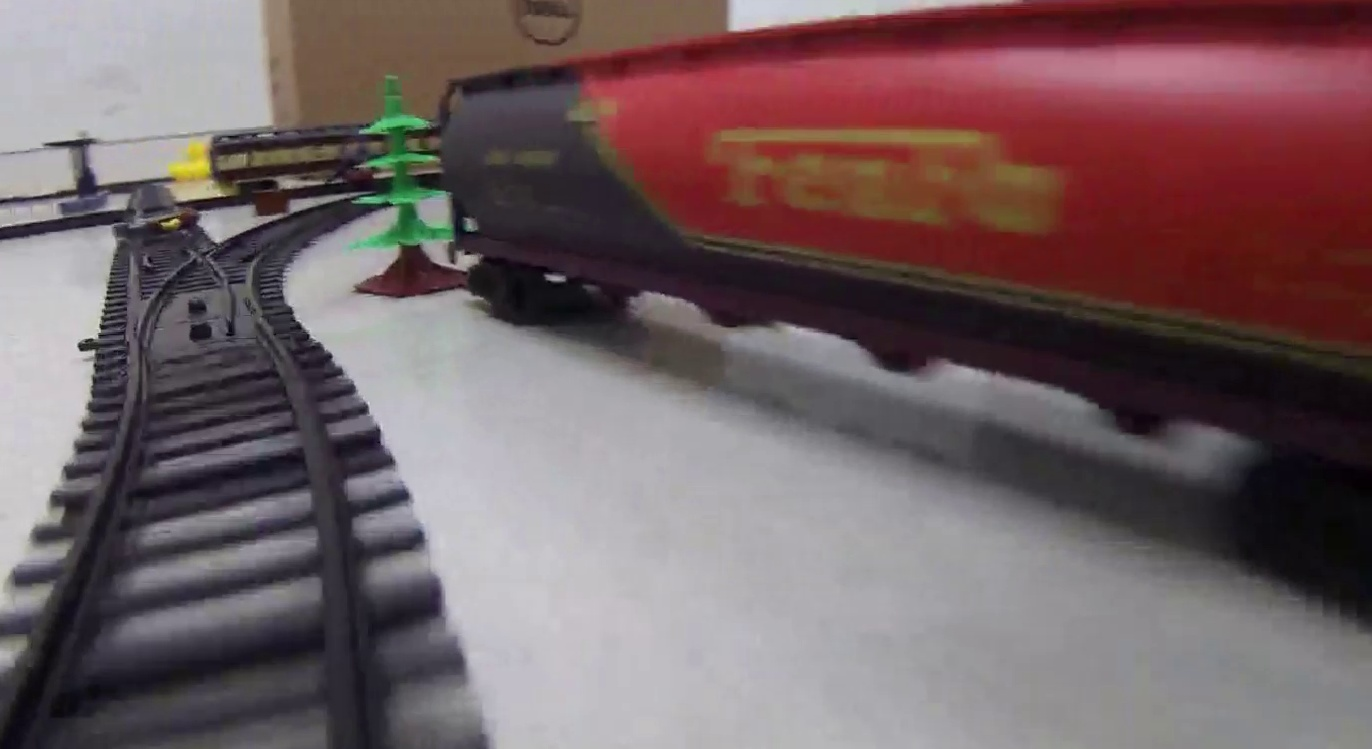tree: (352, 75, 444, 297)
